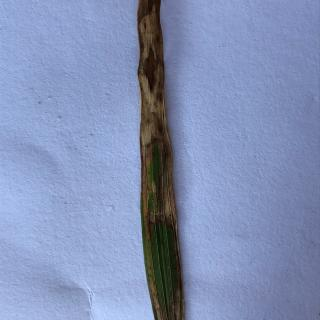Hawar-Daun: (135, 0, 177, 232), (145, 267, 186, 320)
